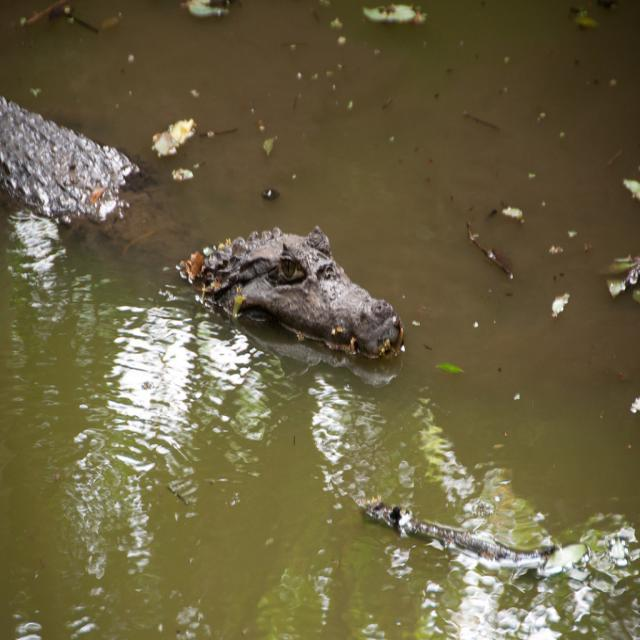crocodile: (0, 61, 453, 429)
